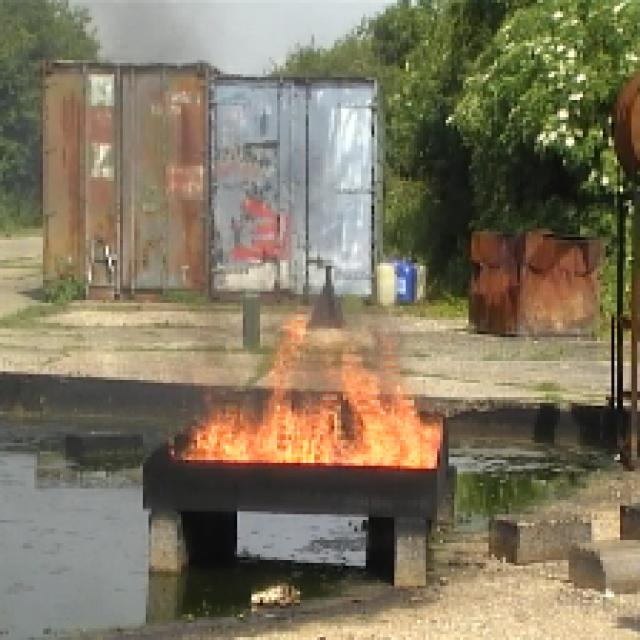fire: (210, 331, 432, 474)
